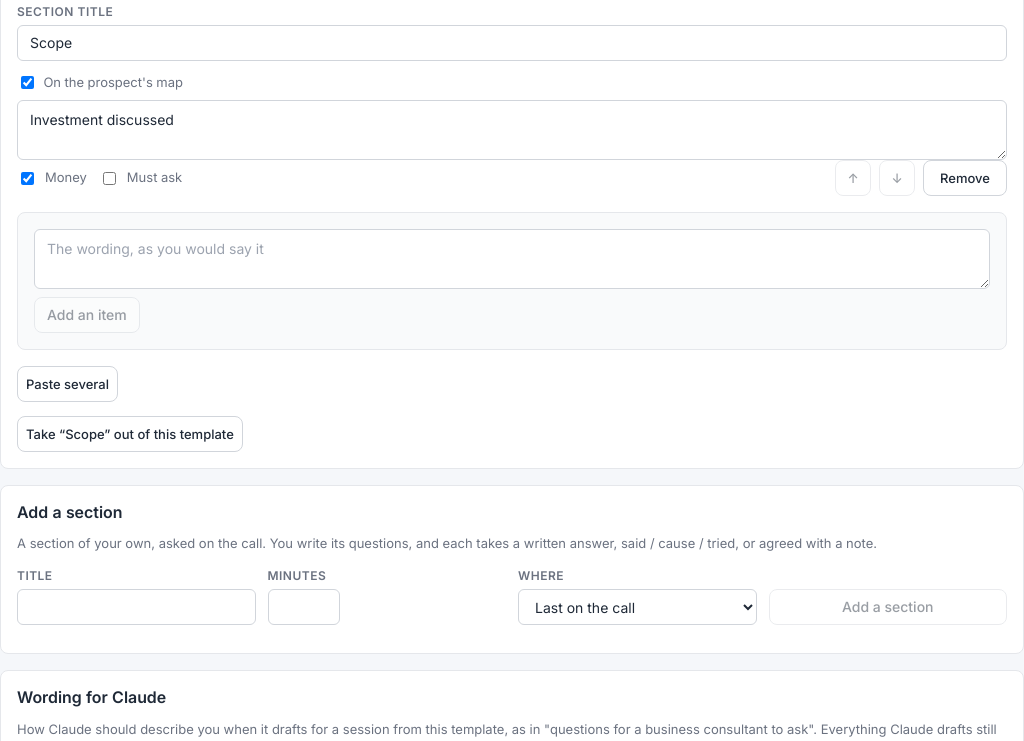
paste several › offers nothing to add when every line is refused, and lets the list be changed
This screenshot has width=1024, height=741.
(page scrolled)
Click the button with aria-label "Paste several into Scope" at (68, 384), box [17,366,118,402]
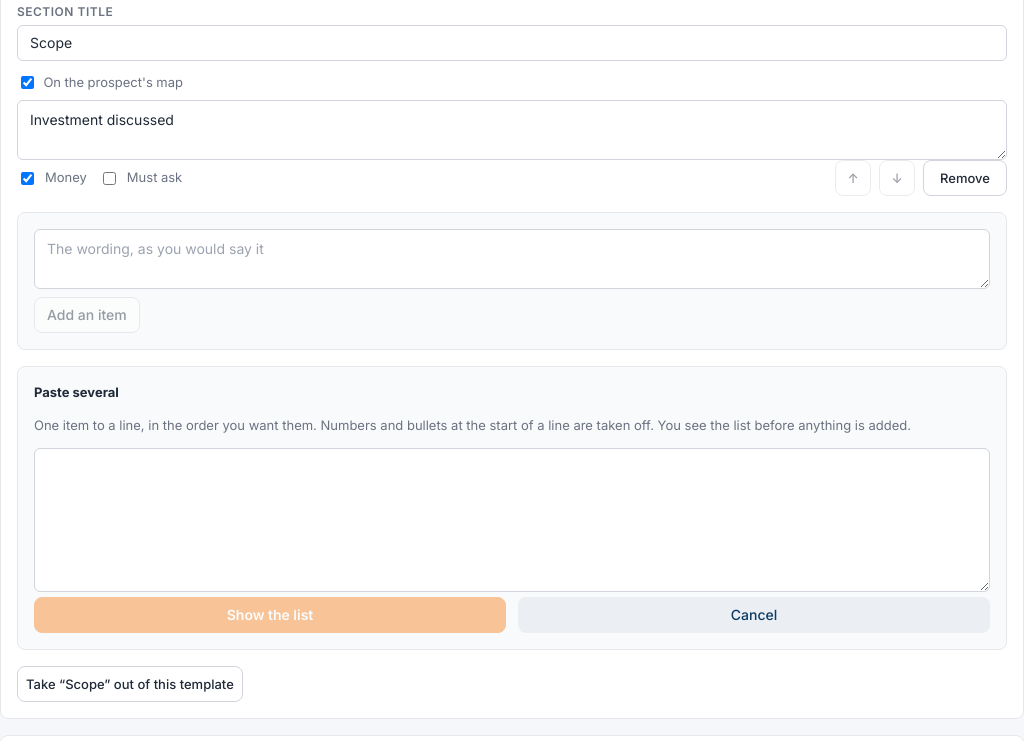
Type "Start date" into the text box named "Lines to paste into Scope" at (512, 520), box [34,448,990,592]
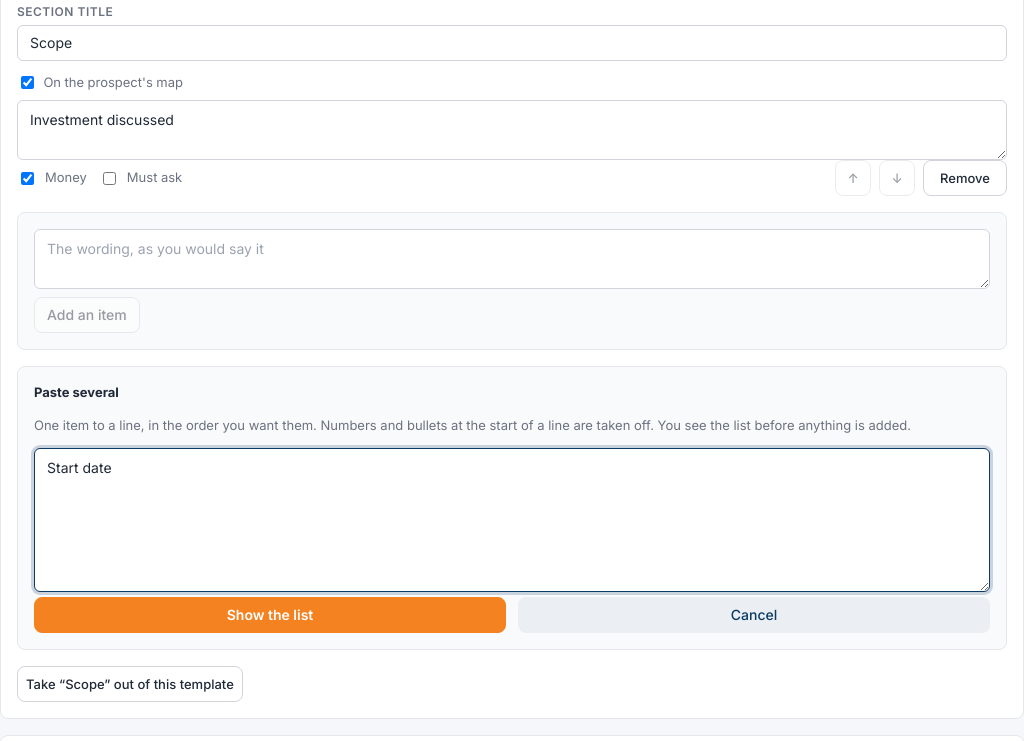
Click the button "Show the list" at (270, 615), box [34,597,506,633]
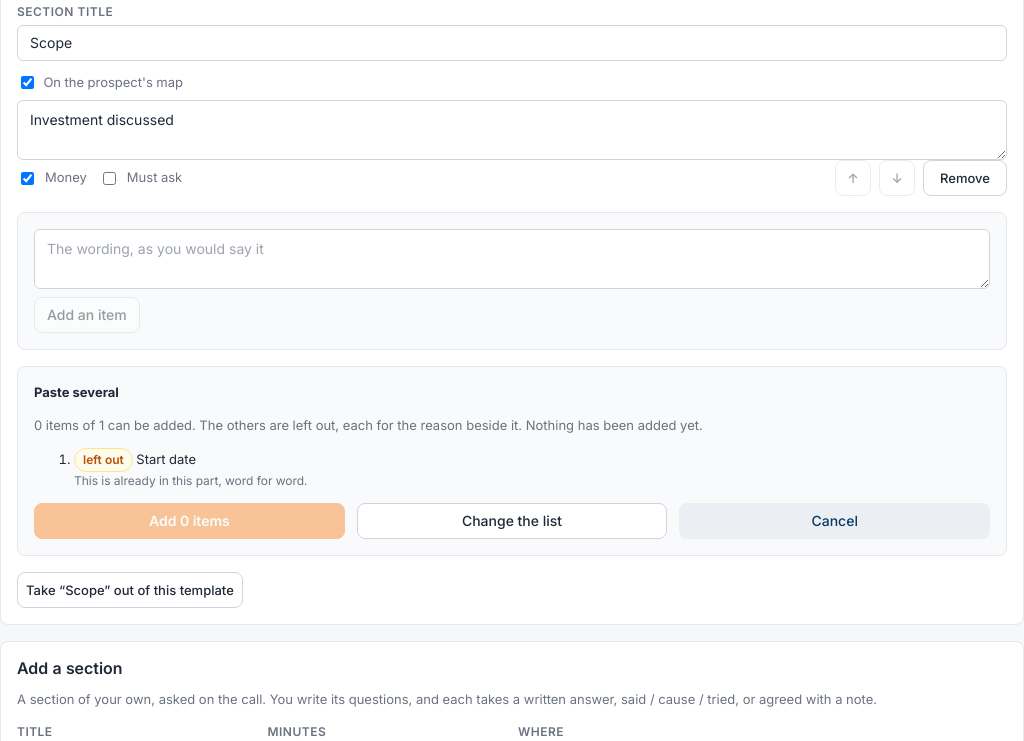
Expected: the button "Add 0 items" is disabled, [34,503,345,539]
Click the button "Change the list" at (512, 521), box [357,503,667,539]
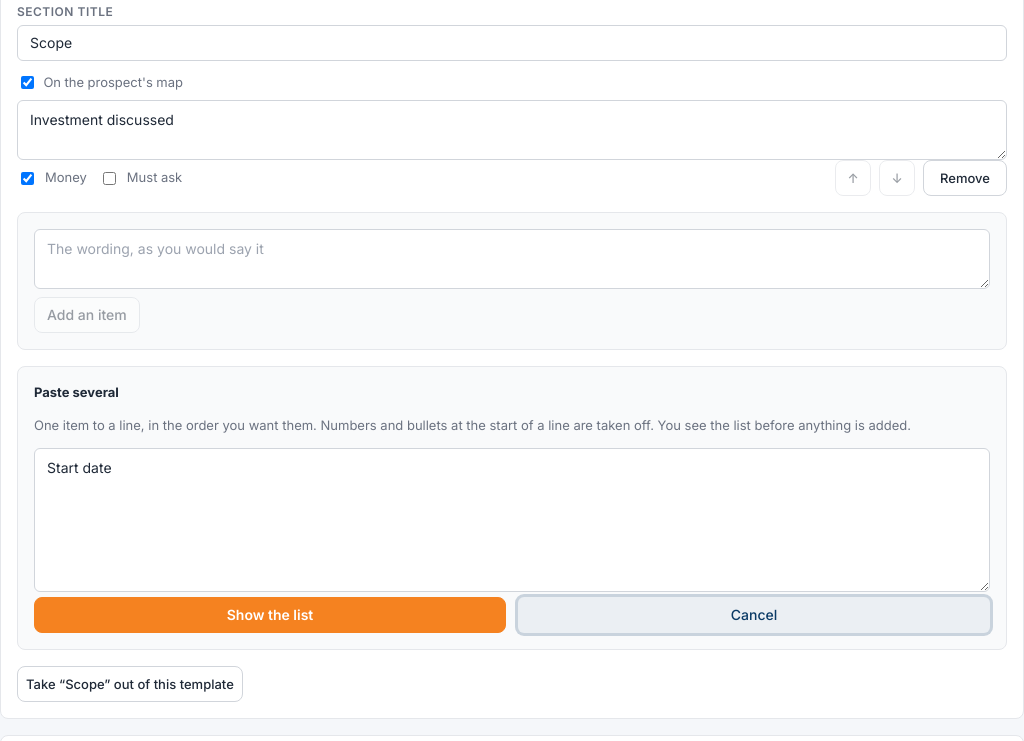
Expected: the text box named "Lines to paste into Scope" holds "Start date", [34,448,990,592]
